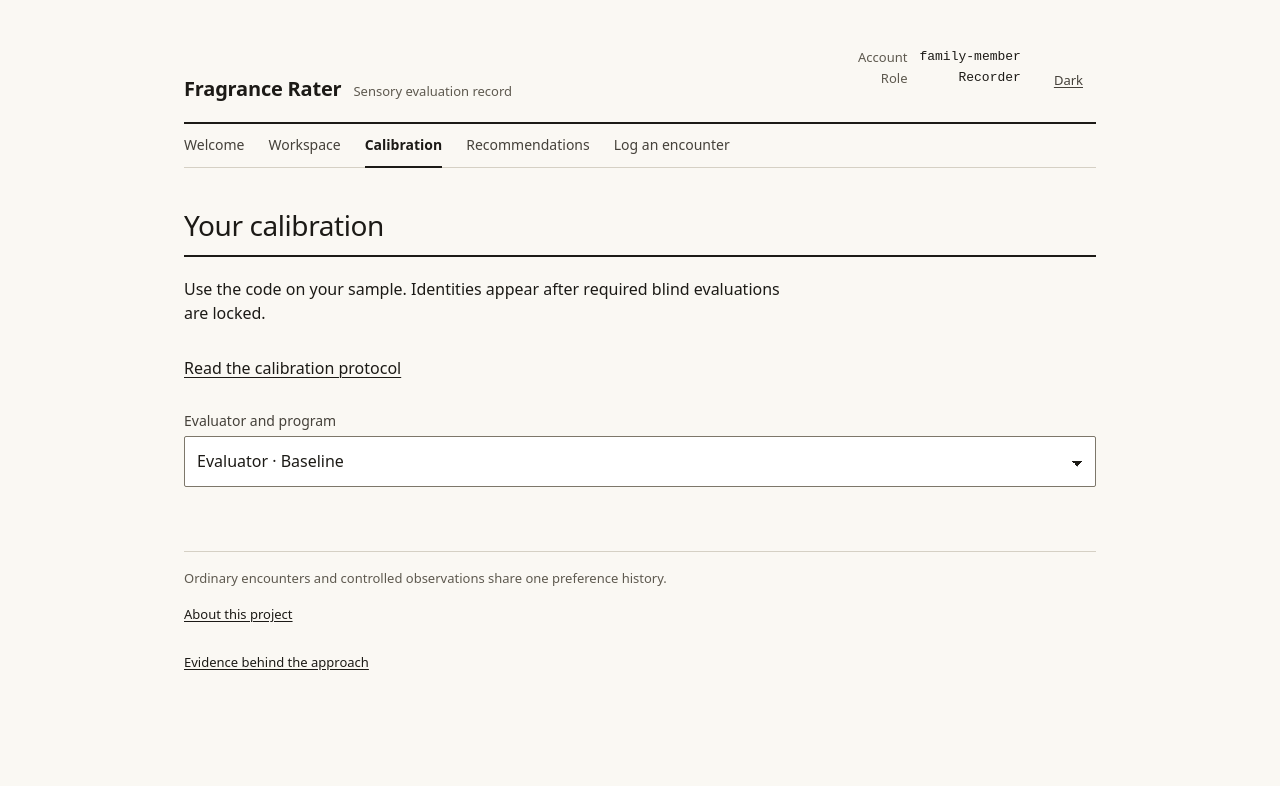
Test case: Revealed sample › credits every perfumer and links each to its own source
Select "Evaluator · Baseline" in the dropdown labelled "Evaluator and program" at [640, 461], box [184, 436, 1096, 487]
(page scrolled)
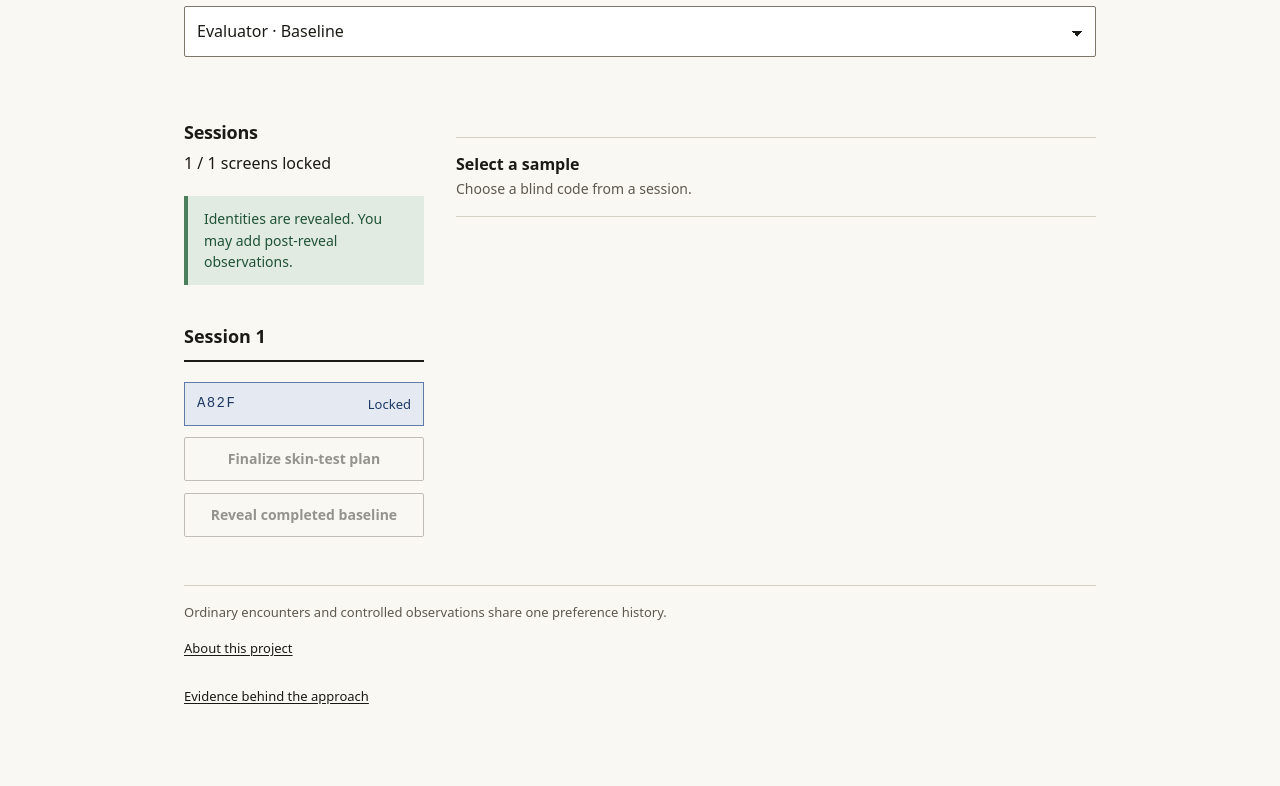
Click the button "A82F Locked" at [304, 404], box [184, 382, 424, 426]
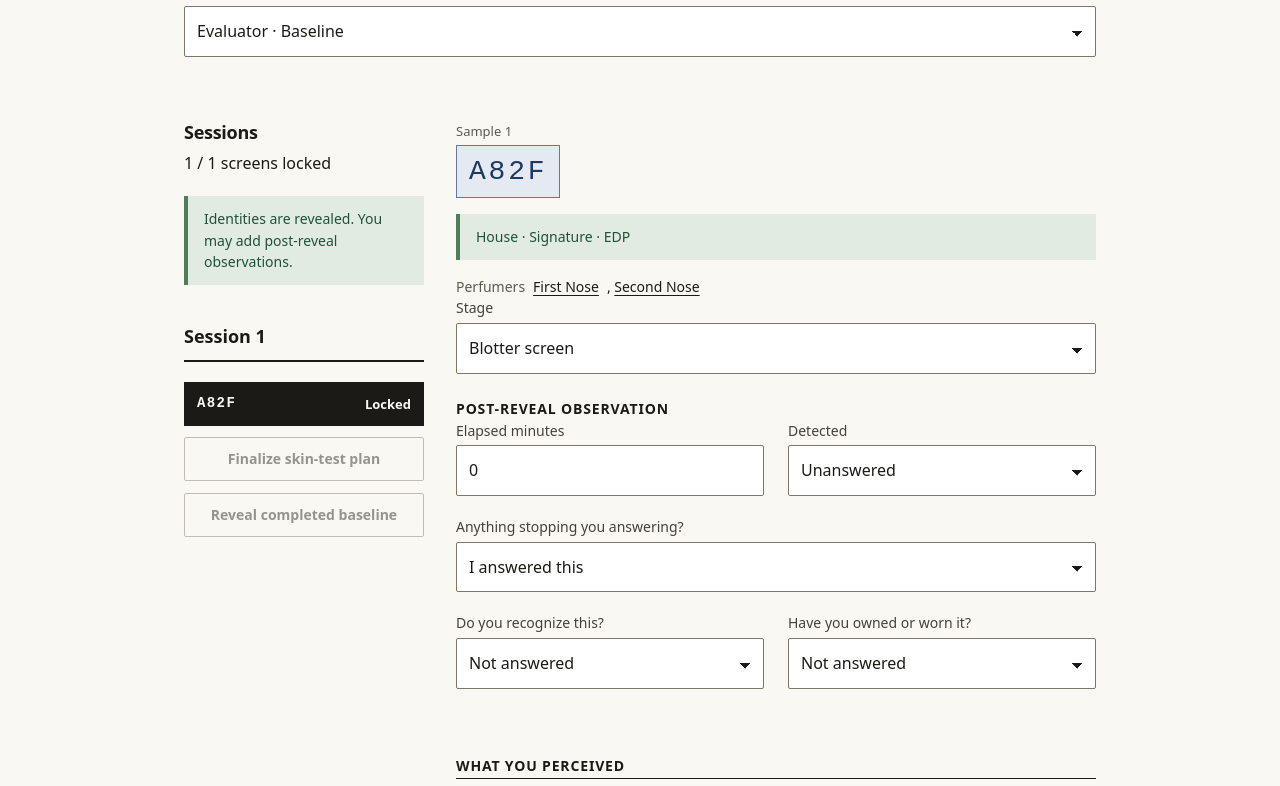
Result: the text "Perfumers" is shown at [456, 276, 525, 297]
